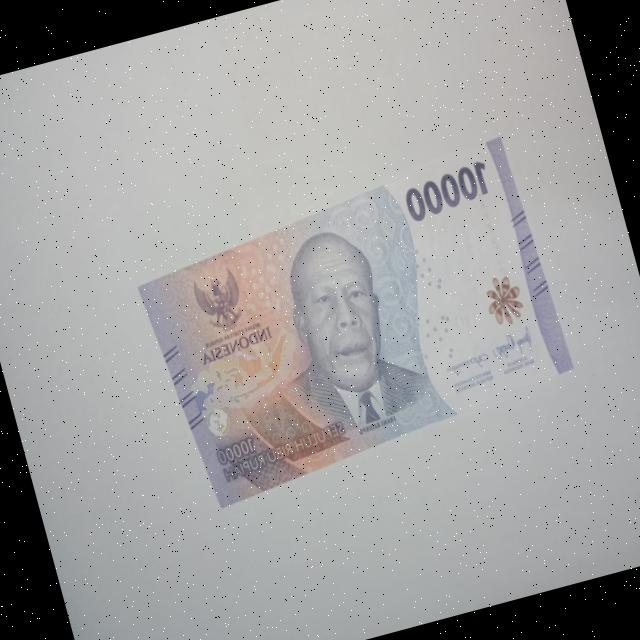10K: (115, 121, 591, 523)
